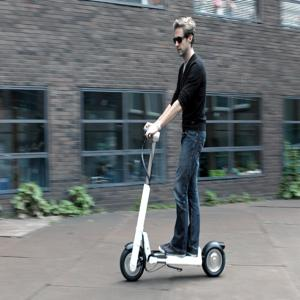human on a scooter: (118, 15, 228, 284)
